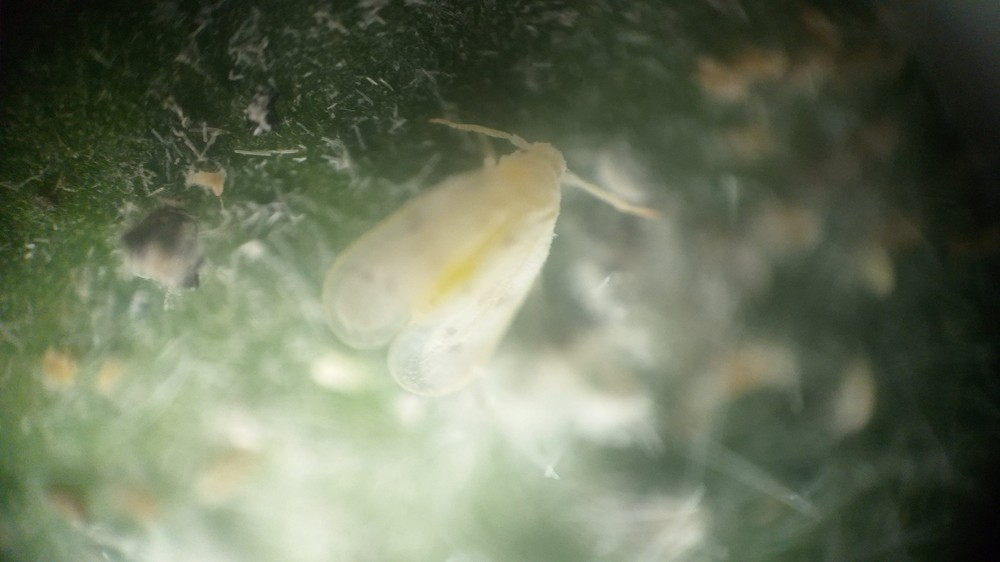Mosca Blanca: (302, 109, 689, 417)
